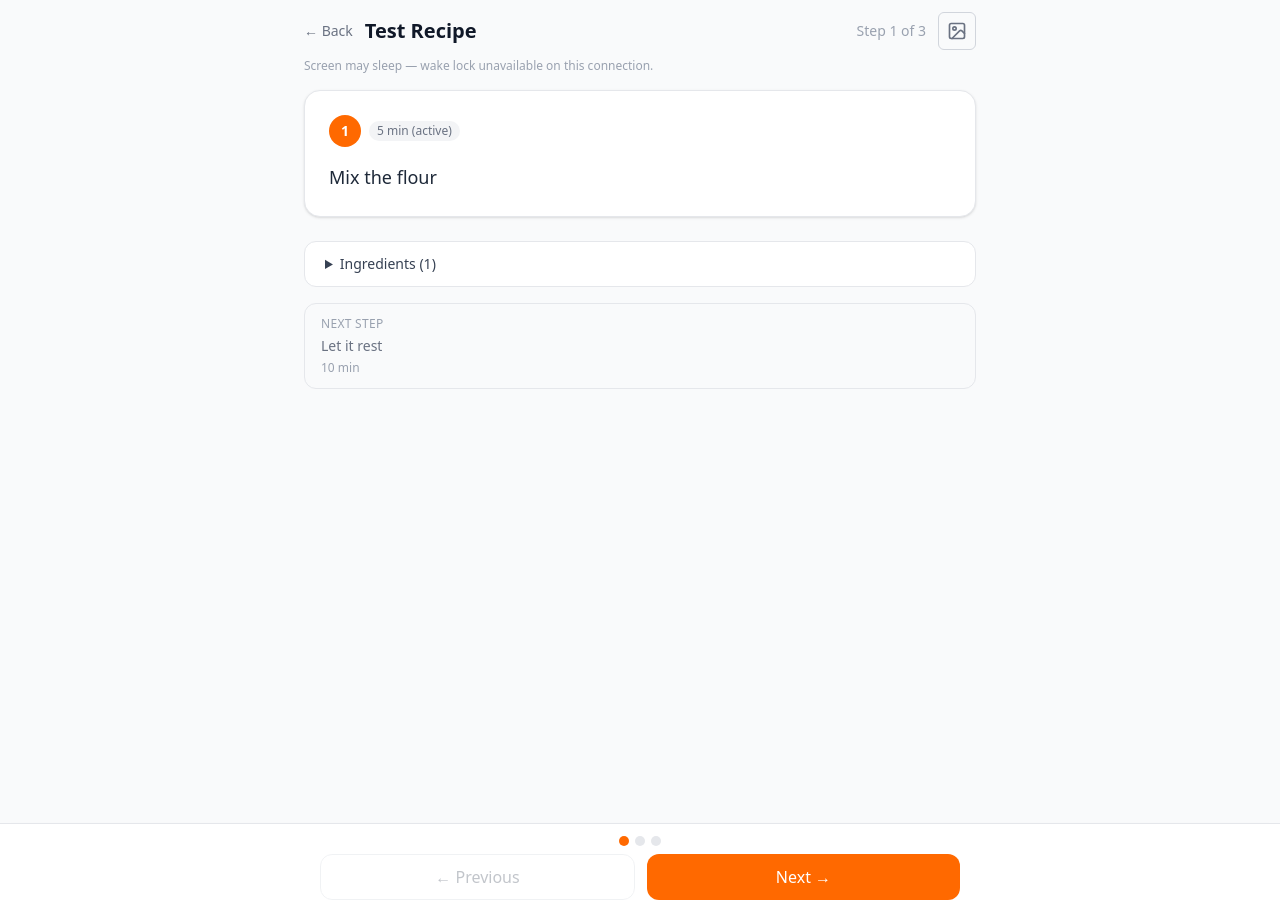
CookModePage › shows timer for passive time steps
Expected: the text "Mix the flour" is shown, [329, 165, 437, 189]
# Navigate to step 2 (passive time with 10 minutes)
Click the button "Next →" at (804, 877), box [647, 854, 960, 900]
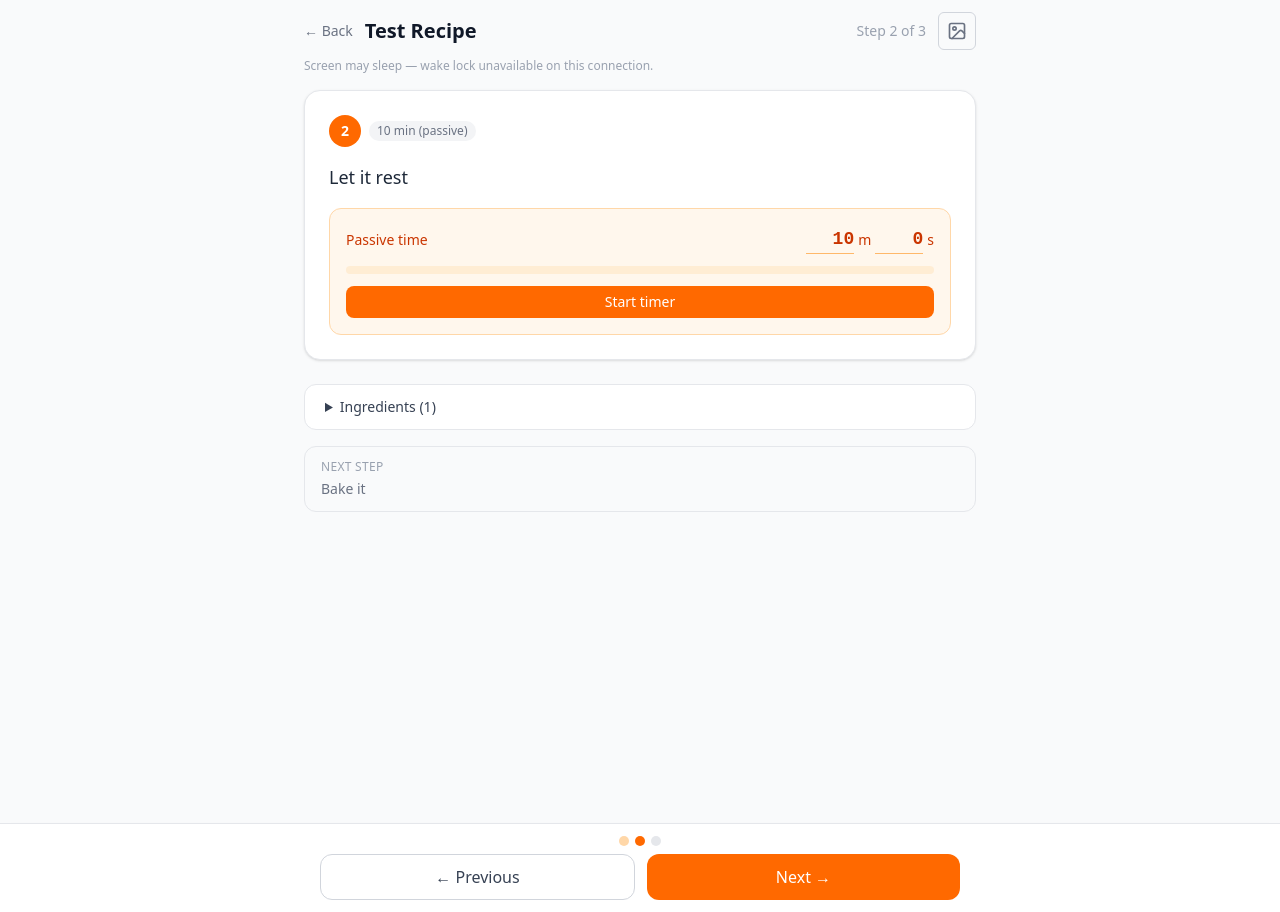
Now the text "Let it rest" is shown, box [329, 165, 408, 189]
Now the text "10 min (passive)" is shown, box [369, 121, 476, 141]
Now the button "Start timer" is shown, box [346, 286, 934, 318]
